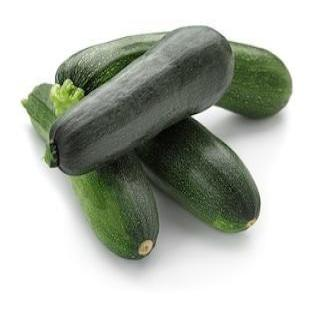Zucchini: (50, 27, 232, 175), (136, 118, 259, 231), (70, 153, 158, 259), (55, 33, 164, 93)
